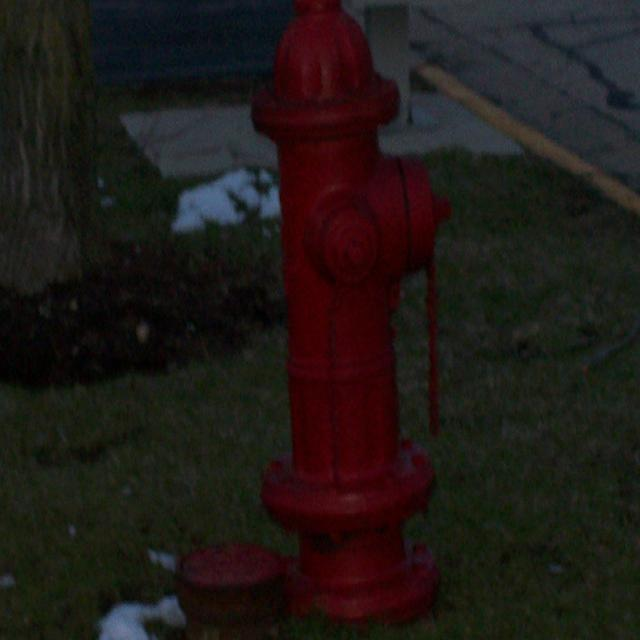fire_hydrant: (178, 2, 457, 630)
